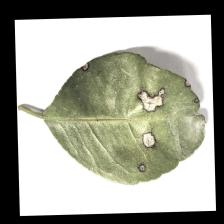canker: (84, 50, 209, 184)
